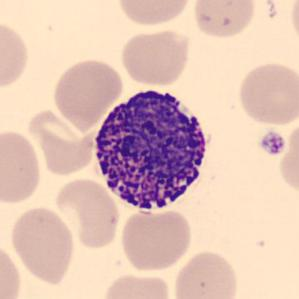Basophil: (87, 81, 219, 219)
Platelets: (258, 130, 287, 156)
RBC: (8, 204, 77, 286), (51, 56, 126, 129), (52, 175, 121, 250), (25, 106, 96, 178), (118, 206, 194, 272), (118, 26, 193, 87), (235, 59, 298, 128), (171, 247, 240, 299), (0, 127, 44, 207), (190, 0, 258, 40), (0, 18, 32, 91), (114, 0, 194, 28), (100, 270, 175, 299), (275, 122, 299, 197), (0, 240, 24, 299), (288, 0, 299, 49)
